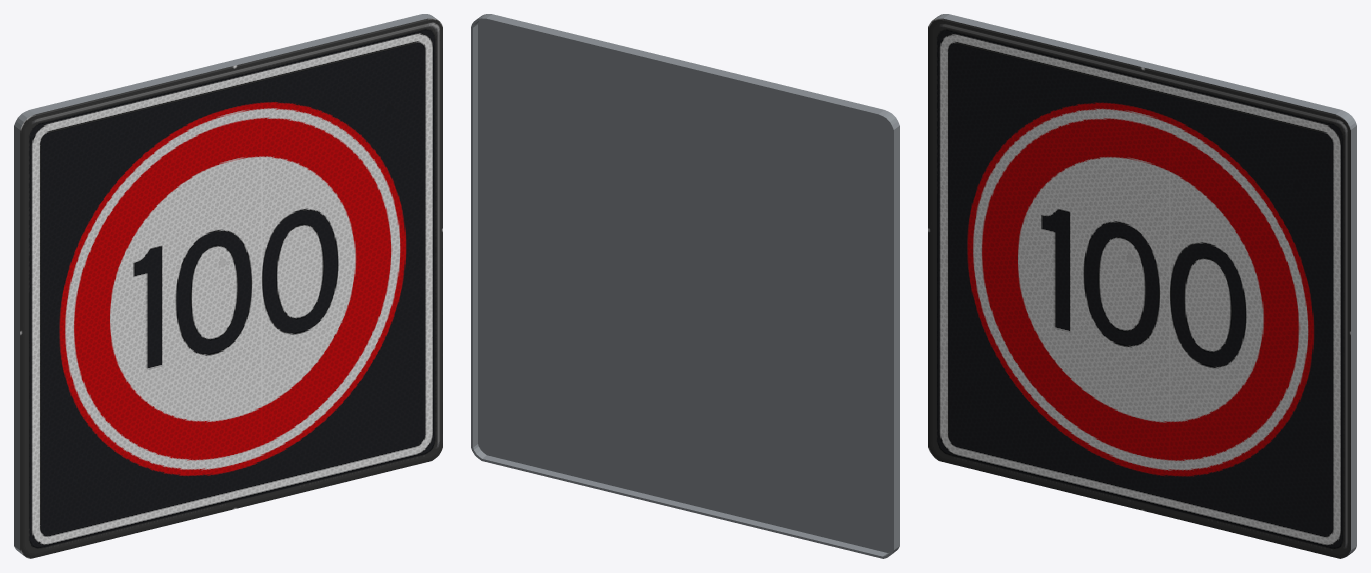
3 renders of one model, left to right at view 1: azimuth 30°, elevation 25°; view 2: azimuth 150°, elevation 25°; view 3: azimuth 330°, elevation 25°, orthographic.
Visible parts, largest first — view 1: cat_64308a3841131134; view 2: cat_64308a3841131134; view 3: cat_64308a3841131134.
Part boxes in pixels (x1,y1,x2,y2): cat_64308a3841131134: [14, 14, 442, 558]; cat_64308a3841131134: [471, 14, 899, 558]; cat_64308a3841131134: [928, 14, 1356, 558].
Bounding box in the file's own units: 0.6 × 0.015 × 0.6014.
2 materials, 1 textured.
